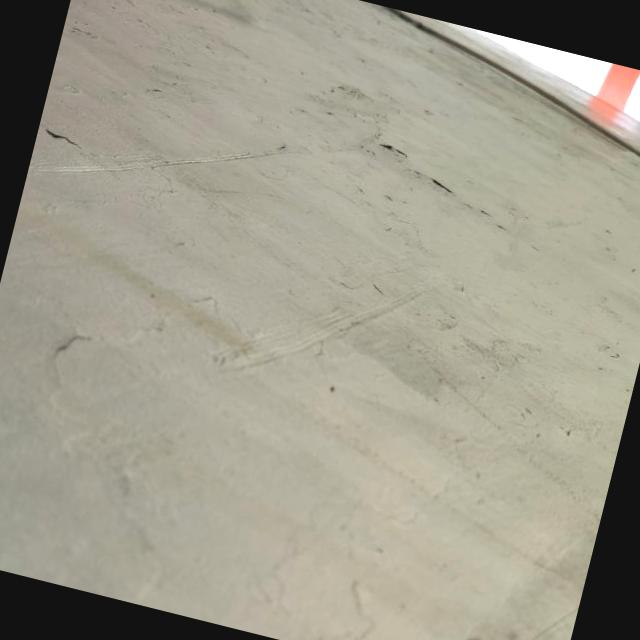paint-off: (147, 0, 273, 50)
scratch: (24, 72, 312, 258), (198, 227, 440, 432)
